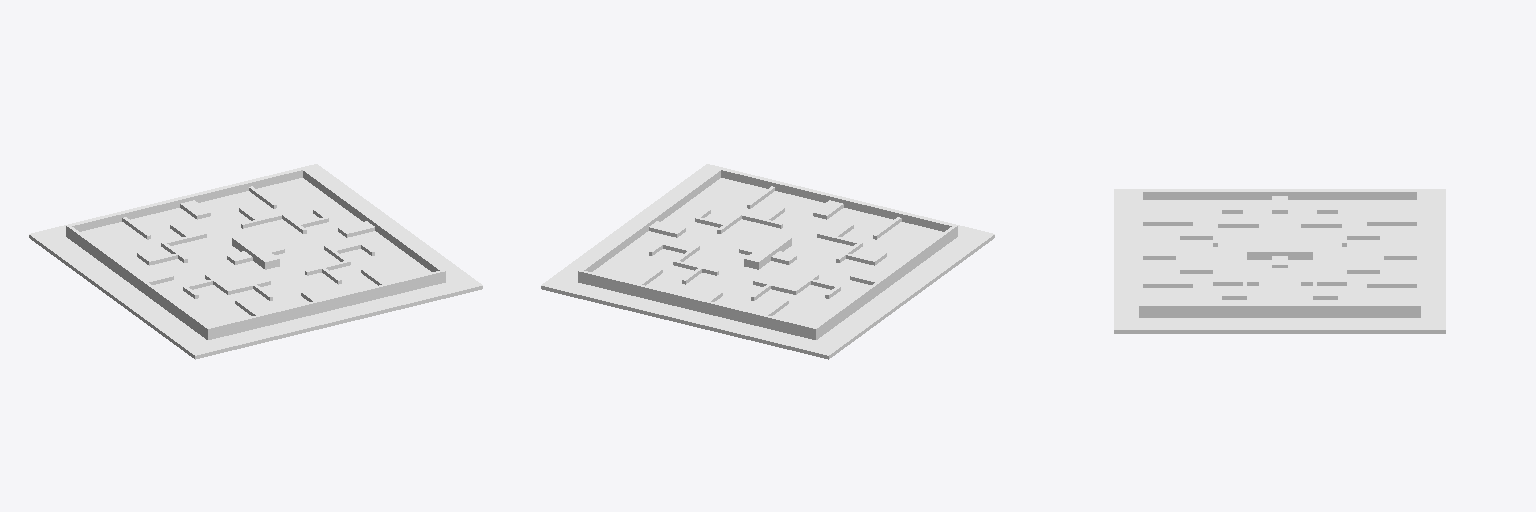
File: level1.obj
3 renders of one model, left to right at view 1: azimuth 30°, elevation 25°; view 2: azimuth 150°, elevation 25°; view 3: azimuth 270°, elevation 25°, orthographic.
Visible parts, largest first — view 1: level1; view 2: level1; view 3: level1.
Boxes of the visible parts, <box> form: level1: <box>29,164,482,359</box>; level1: <box>541,164,994,359</box>; level1: <box>1114,189,1445,333</box>.
Size of the model in its own units: 80 by 4 by 80.